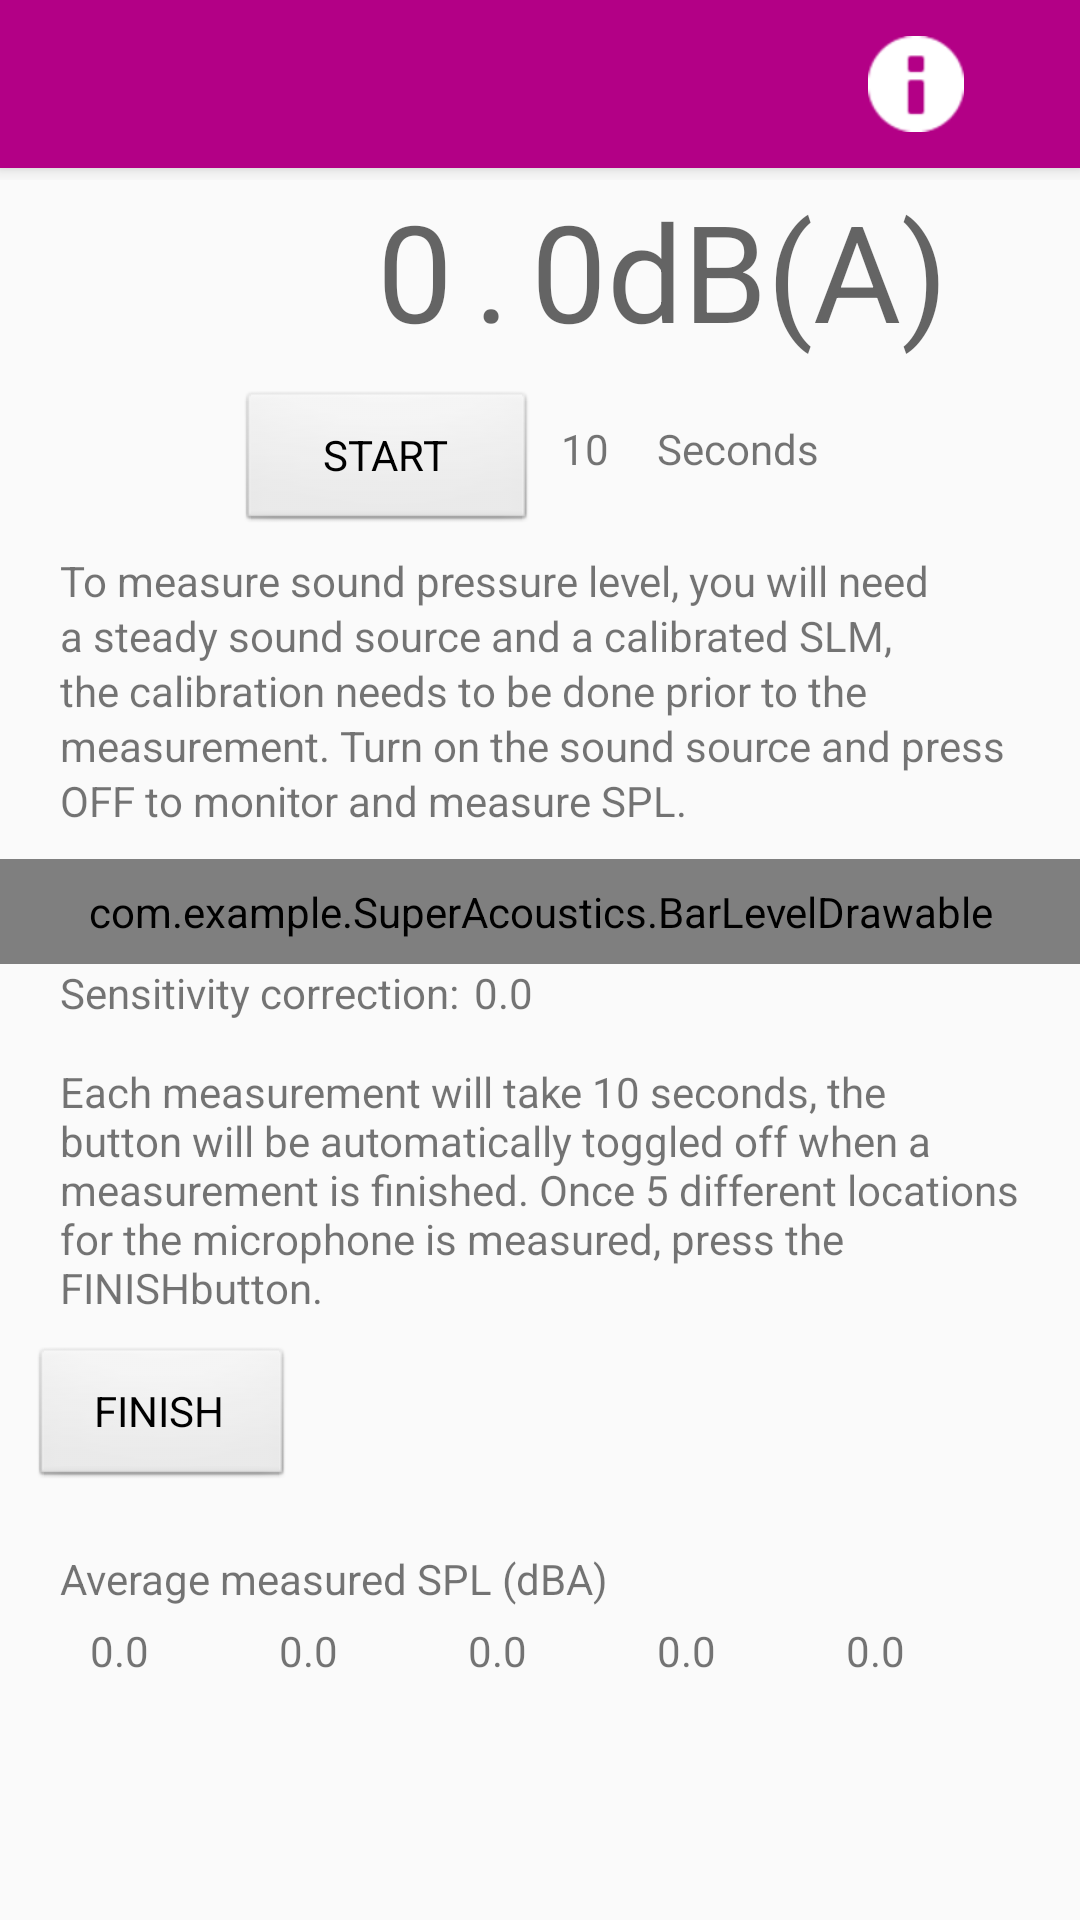

Screen size 1080px×1920px. Icon name, then its center in pixels as [x,y]:
info: [916,84]
